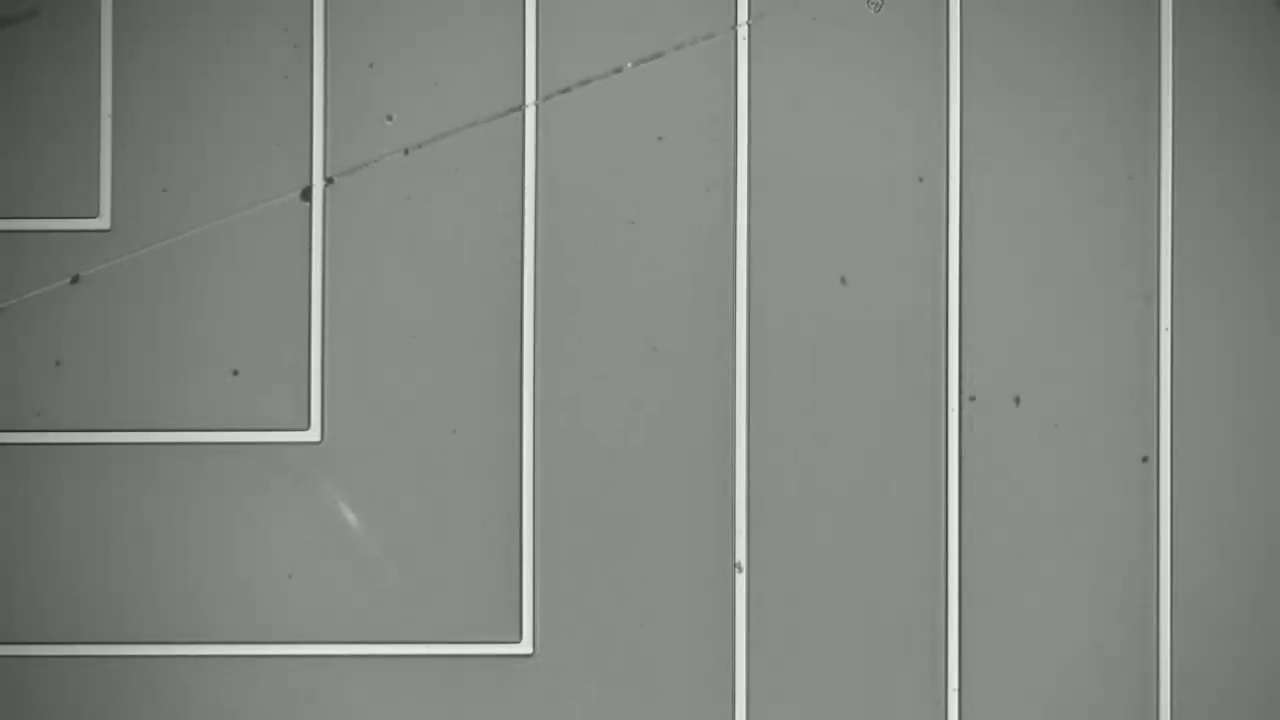scratch: (21, 21, 729, 302)
stains_enbedded: (720, 548, 760, 587)
